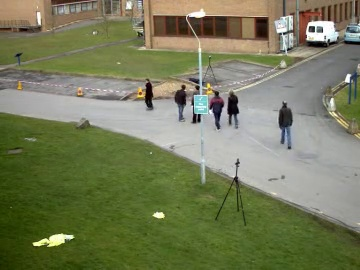person: (174, 83, 192, 120), (142, 77, 157, 110), (142, 78, 157, 111)
